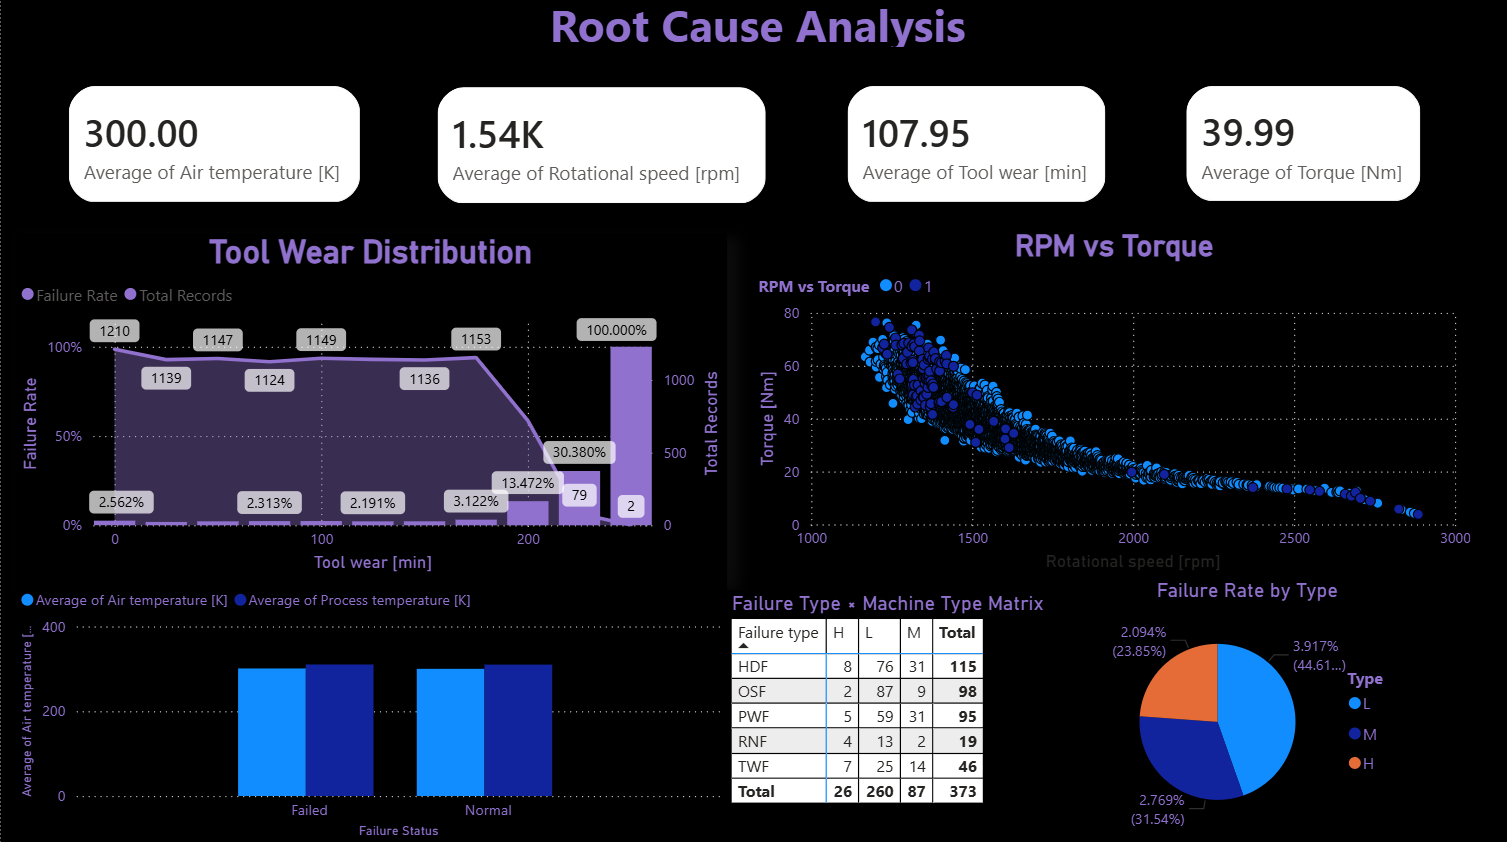

This screenshot's page, from the dashboard's own definition file:
{"tool":"powerbi","page":{"name":"ROOT CAUSE ANALYSIS","canvas":[1280,720],"ordinal":1},"visuals":[{"type":"cardVisual","fields":{"Data":["Avg(ai4i2020.Air temperature [K])"]},"box":[11.6,107,289.5,143],"z":0},{"type":"cardVisual","fields":{"Data":["Avg(ai4i2020.Rotational speed [rpm])"]},"box":[319.8,107,320.9,143],"z":1000},{"type":"cardVisual","fields":{"Data":["Avg(ai4i2020.Tool wear [min])"]},"box":[669.8,107,261.6,143],"z":2000},{"type":"slicer","title":"TYPE OF MACHINE","fields":{"Values":["ai4i2020.Type"]},"box":[591.9,404.7,316.3,117.4],"z":3000},{"type":"textbox","box":[0,0,1280.6,54.7],"z":5000},{"type":"cardVisual","fields":{"Data":["Avg(ai4i2020.Torque [Nm])"]},"box":[958.1,107,309.3,143],"z":7001},{"type":"lineClusteredColumnComboChart","title":"Tool Wear Distribution","fields":{"Category":["ai4i2020.Tool wear [min] (bins)"],"Y":["ai4i2020.Failure Rate"],"Y2":["ai4i2020.Total Records"]},"box":[11.6,261.6,580.2,233.7],"z":7002},{"type":"scatterChart","title":"RPM vs Torque","fields":{"X":["ai4i2020.Rotational speed [rpm]"],"Y":["ai4i2020.Torque [Nm]"],"Series":["Failure Analysis.failure"]},"box":[11.6,505.8,580.2,214],"z":7003},{"type":"pivotTable","title":"Failure Type × Machine Type Matrix","fields":{"Rows":["Failure Analysis.Failure type"],"Values":["Sum(Failure Analysis.failure)"],"Columns":["ai4i2020.Type"]},"box":[908.1,261.6,352.3,202.3],"z":7004},{"type":"lineClusteredColumnComboChart","fields":{"Y":["Avg(ai4i2020.Air temperature [K])","Avg(ai4i2020.Process temperature [K])"],"Category":["ai4i2020.Failure Status"]},"box":[908.1,505.8,352.3,214],"z":7005}]}

Visuals, with their boxes in screenshot pixels (x1, y1, x2, y2), scaled from the page's 1280x720 canvas onto the 1507x842 screenshot:
cardVisual - Avg(ai4i2020.Air temperature [K]): <bbox>14, 125, 354, 292</bbox>
cardVisual - Avg(ai4i2020.Rotational speed [rpm]): <bbox>377, 125, 754, 292</bbox>
cardVisual - Avg(ai4i2020.Tool wear [min]): <bbox>789, 125, 1097, 292</bbox>
"TYPE OF MACHINE" slicer: <bbox>697, 473, 1069, 611</bbox>
textbox: <bbox>0, 0, 1506, 64</bbox>
cardVisual - Avg(ai4i2020.Torque [Nm]): <bbox>1128, 125, 1492, 292</bbox>
"Tool Wear Distribution" lineClusteredColumnComboChart: <bbox>14, 306, 697, 579</bbox>
"RPM vs Torque" scatterChart: <bbox>14, 592, 697, 841</bbox>
"Failure Type × Machine Type Matrix" pivotTable: <bbox>1069, 306, 1484, 543</bbox>
lineClusteredColumnComboChart - Avg(ai4i2020.Air temperature [K]) x Avg(ai4i2020.Process temperature [K]): <bbox>1069, 592, 1484, 841</bbox>
